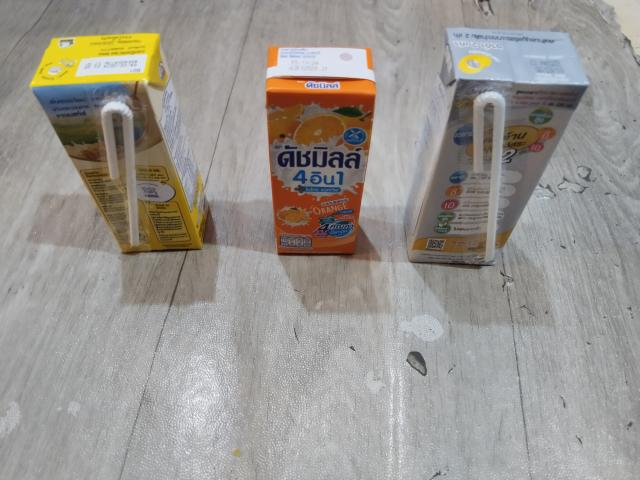drink_box: (394, 24, 600, 274), (23, 24, 224, 269), (260, 40, 381, 263)
